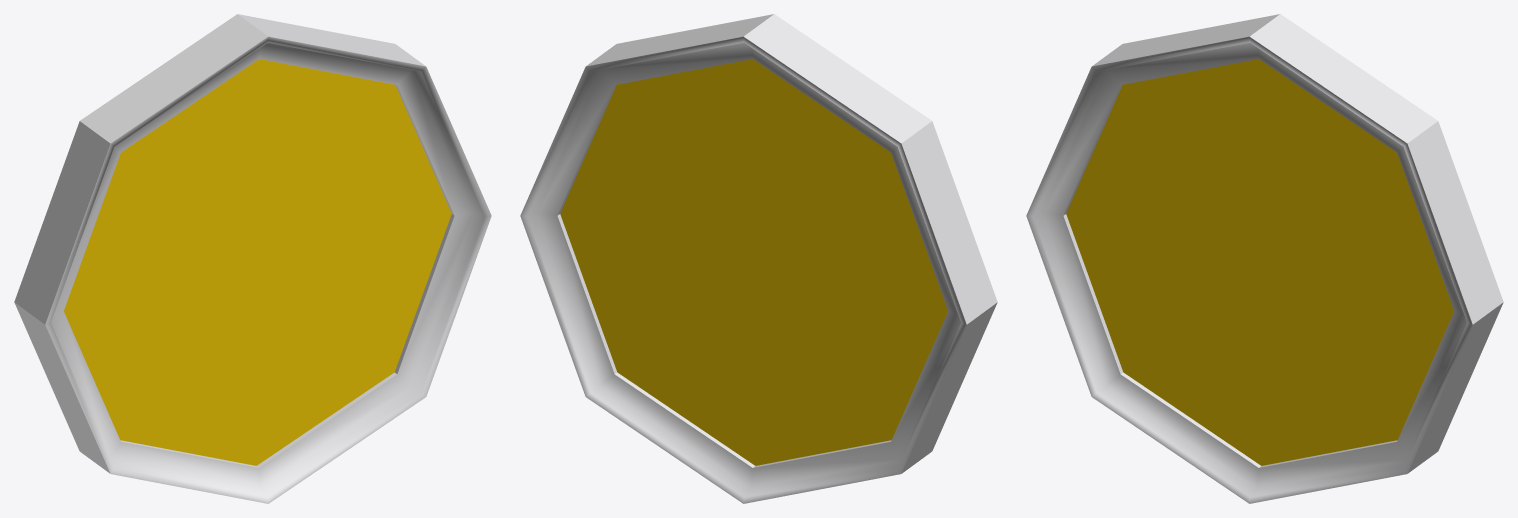
The model's file is yellowLens.glb.
3 views of the same model, side by side, from view 1: azimuth 30°, elevation 25°; view 2: azimuth 150°, elevation 25°; view 3: azimuth 330°, elevation 25° (orthographic).
Visible parts, largest first — view 1: yellowLens_geo camera_grp; view 2: yellowLens_geo camera_grp; view 3: yellowLens_geo camera_grp.
Boxes of the visible parts, left/top/right/bottom form: yellowLens_geo camera_grp: left=14, top=14, right=491, bottom=503; yellowLens_geo camera_grp: left=520, top=14, right=997, bottom=503; yellowLens_geo camera_grp: left=1026, top=14, right=1503, bottom=503.
Size of the model in its own units: 0.0015 by 0.0015 by 0.000179.
Materials: 1 (1 with a texture image).
